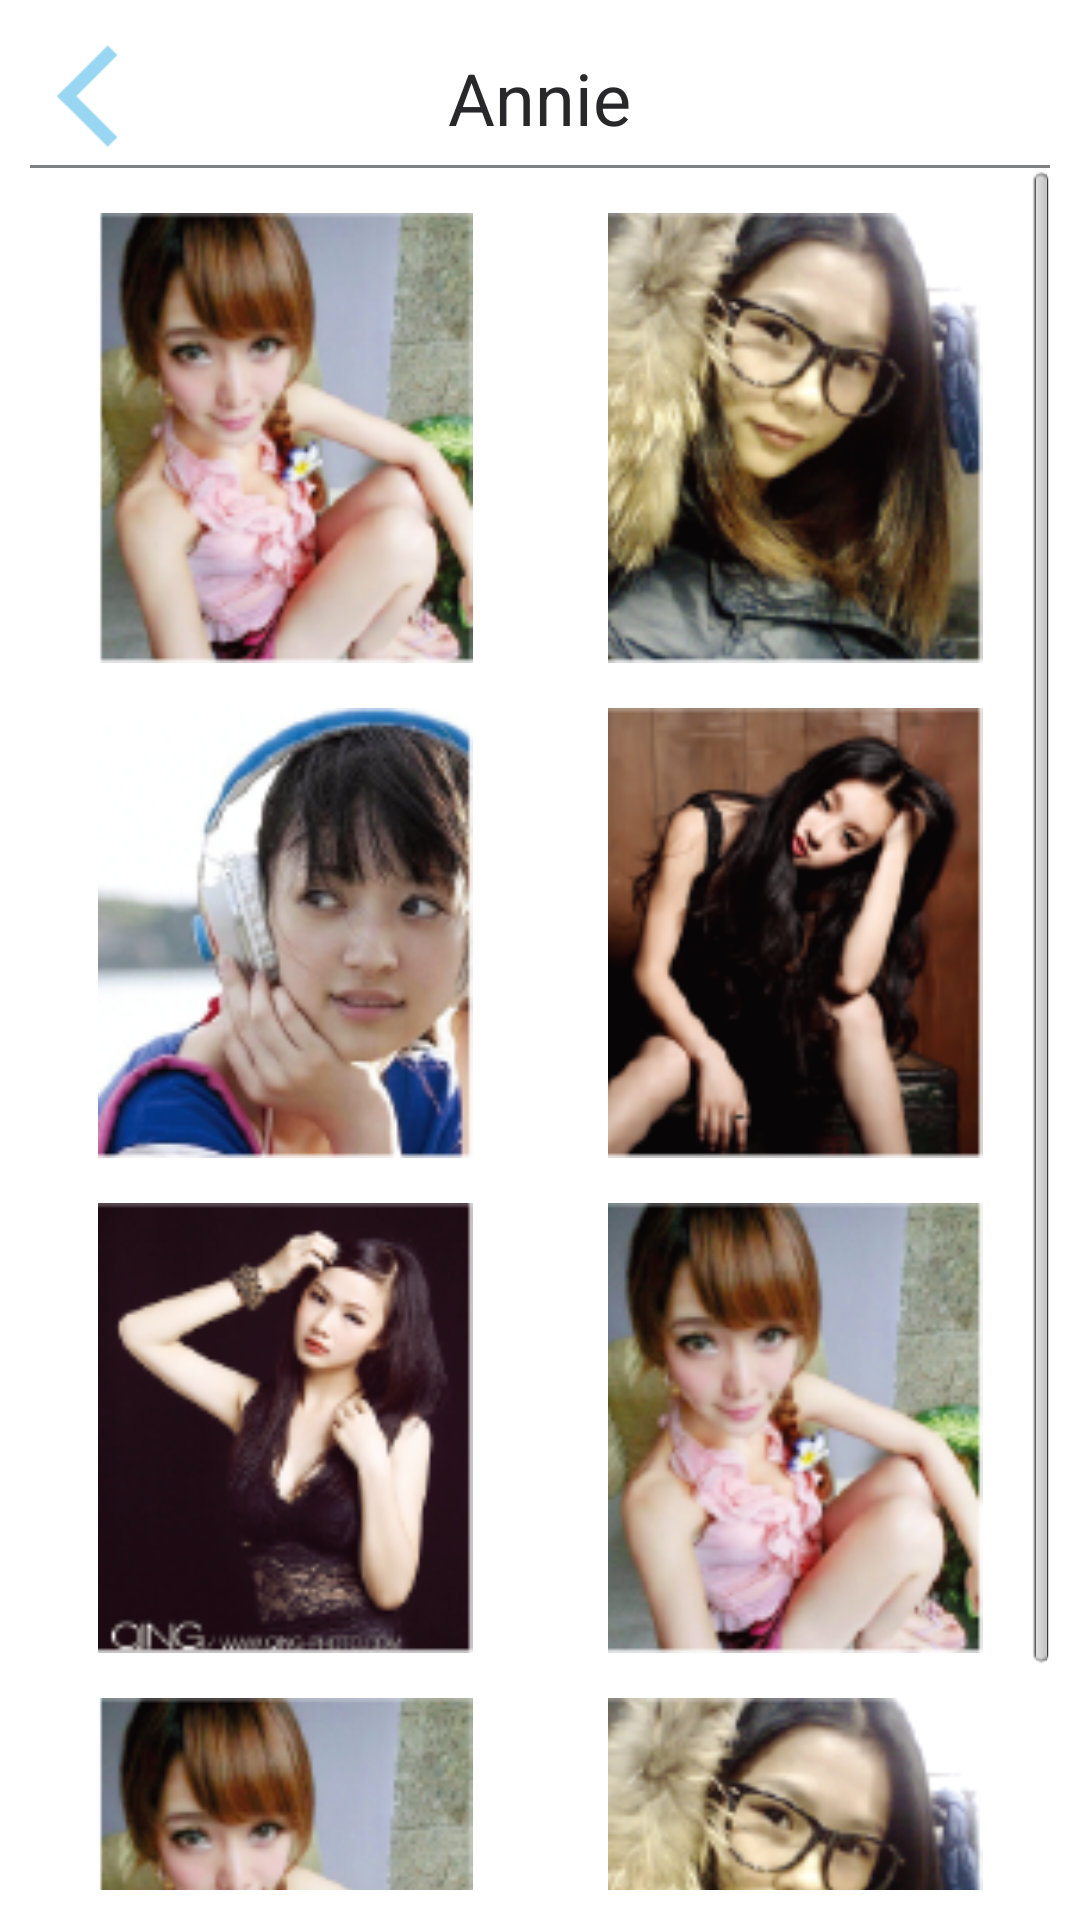

Locate icon controls on the screen. Image size 1080x1920, boxes as (x1, y1, x2, y2).
back: (57, 45, 117, 147)
